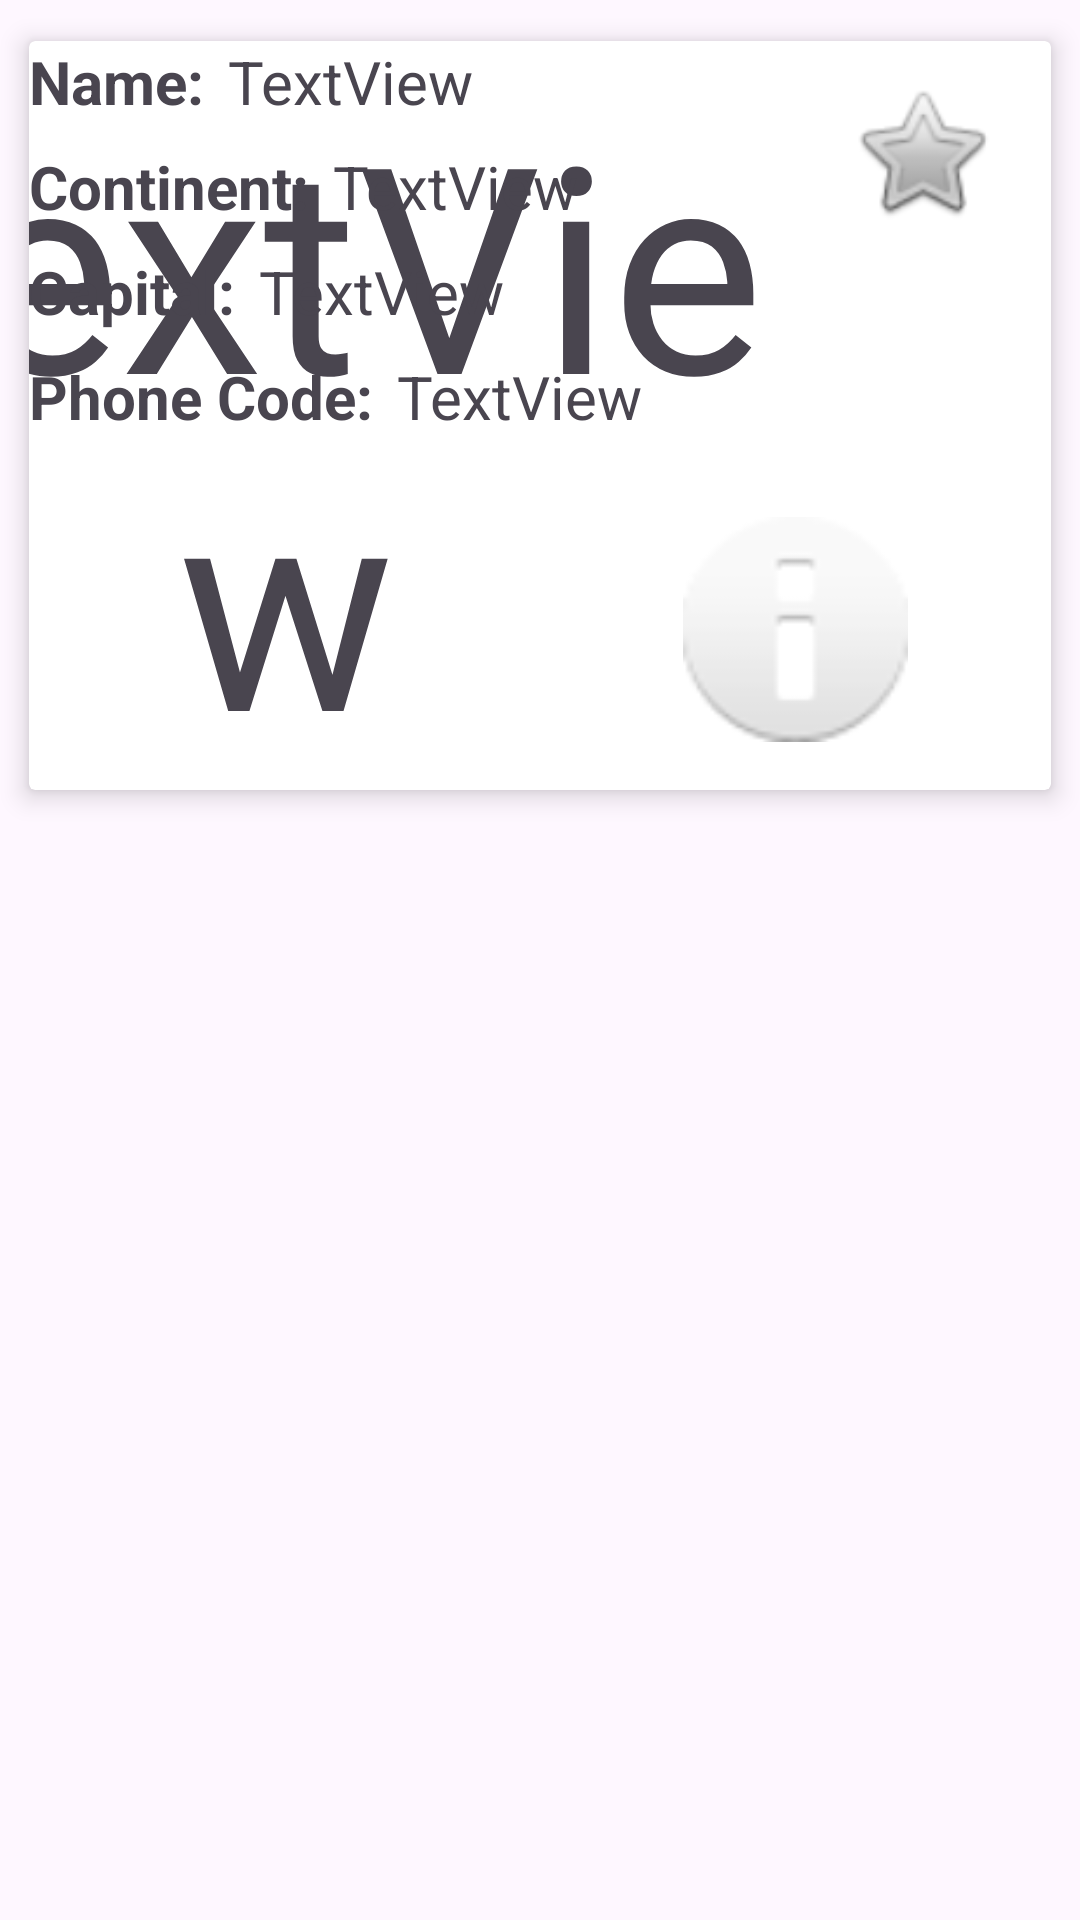

Named icons in this screenshot (1080w x 1920h) and their bounding boxes, (x1, y1, x2, y2):
info: (683, 558, 908, 742)
star off: (861, 92, 986, 214)
